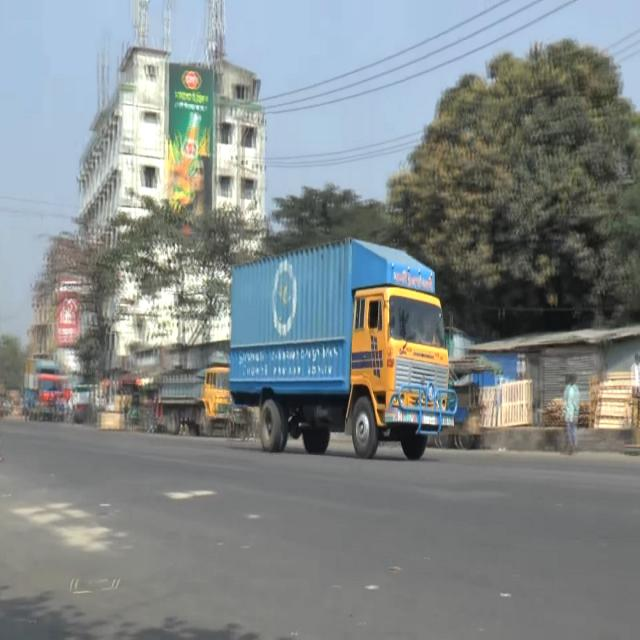truck: (223, 225, 459, 470), (156, 352, 234, 448), (23, 353, 66, 420)
